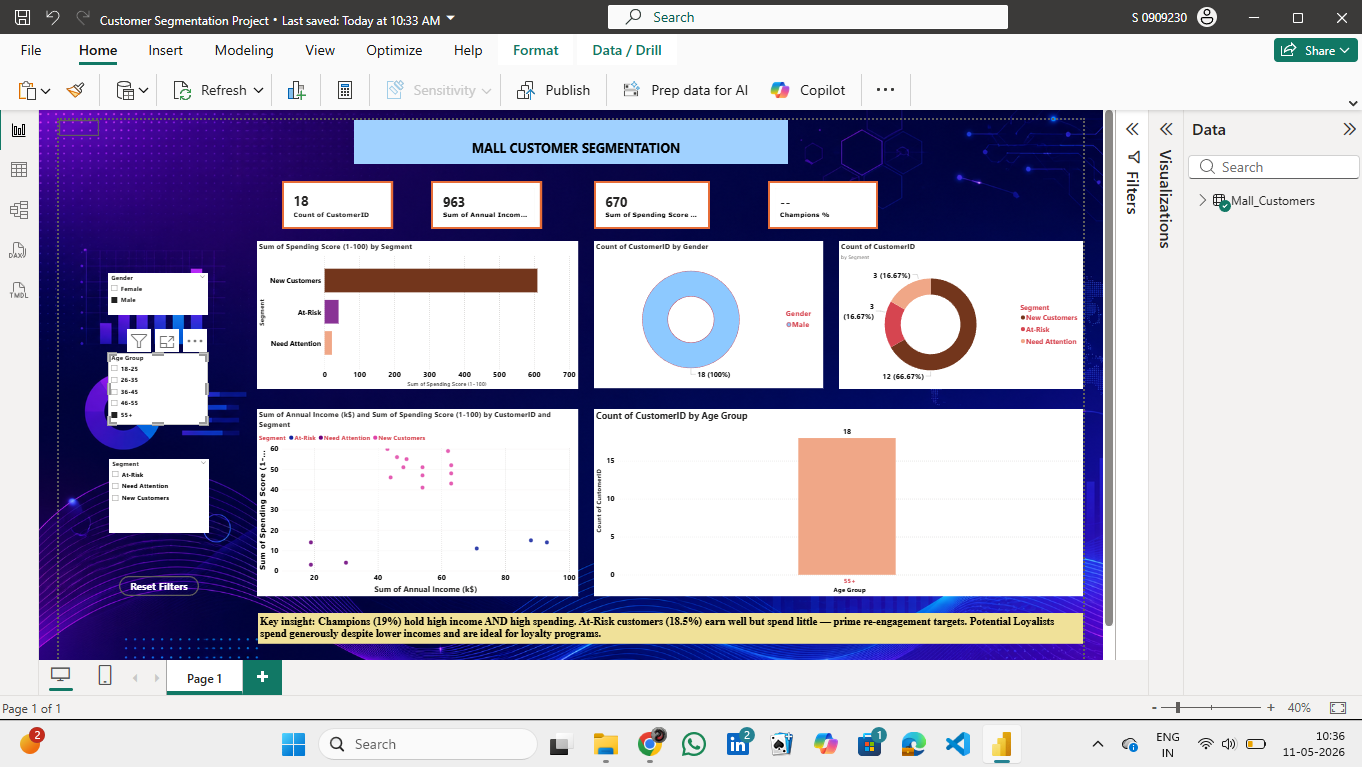

This screenshot's page, from the dashboard's own definition file:
{"tool":"powerbi","page":{"name":"Page 1","canvas":[2560,1440],"ordinal":0},"visuals":[{"type":"cardVisual","fields":{"Data":["CountNonNull(Mall_Customers.CustomerID)"]},"box":[557.5,152.5,277.5,120],"z":0},{"type":"cardVisual","fields":{"Data":["Sum(Mall_Customers.Annual Income (k$))"]},"box":[930,152.5,277.5,120],"z":1000},{"type":"cardVisual","fields":{"Data":["Sum(Mall_Customers.Spending Score (1-100))"]},"box":[1337.5,152.5,290,120],"z":2000},{"type":"textbox","box":[737.5,0,1085,110],"z":3000},{"type":"scatterChart","fields":{"Y":["Sum(Mall_Customers.Spending Score (1-100))"],"X":["Sum(Mall_Customers.Annual Income (k$))"],"Category":["Mall_Customers.CustomerID"],"Series":["Mall_Customers.Segment"]},"box":[495,722.5,802.5,467.5],"z":4000},{"type":"donutChart","fields":{"Category":["Mall_Customers.Segment"],"Y":["CountNonNull(Mall_Customers.CustomerID)"]},"box":[1950,302.5,610,370],"z":5000},{"type":"slicer","fields":{"Values":["Mall_Customers.Gender"]},"box":[122.5,382.5,250,105],"z":6000},{"type":"slicer","fields":{"Values":["Mall_Customers.Age Group"]},"box":[122.5,582.5,250,180],"z":7000},{"type":"slicer","fields":{"Values":["Mall_Customers.Segment"]},"box":[125,847.5,250,185],"z":8000},{"type":"donutChart","fields":{"Category":["Mall_Customers.Gender"],"Y":["CountNonNull(Mall_Customers.CustomerID)"]},"box":[1337.5,302.5,572.5,367.5],"z":9000},{"type":"clusteredBarChart","fields":{"Category":["Mall_Customers.Segment"],"Y":["Sum(Mall_Customers.Spending Score (1-100))"]},"box":[495,302.5,802.5,370],"z":10000},{"type":"clusteredColumnChart","fields":{"Category":["Mall_Customers.Age Group"],"Y":["CountNonNull(Mall_Customers.CustomerID)"]},"box":[1337.5,722.5,1222.5,467.5],"z":11000},{"type":"cardVisual","fields":{"Data":["Mall_Customers.Champions %"]},"box":[1772.5,152.5,275,120],"z":12000},{"type":"actionButton","box":[0,0,100,40],"z":13000},{"type":"actionButton","box":[150,1140,200,50],"z":14000},{"type":"textbox","box":[496.7,1233.3,2063.3,76.7],"z":14001}]}

Visuals, with their boxes on the page's 2560x1440 design canvas (x1, y1, x2, y2). These are canvas units, not pixel positions in the 1362x767 screenshot, which may show the page scaled, cropped or inside an application window:
cardVisual - CountNonNull(Mall_Customers.CustomerID): 558, 152, 835, 272
cardVisual - Sum(Mall_Customers.Annual Income (k$)): 930, 152, 1208, 272
cardVisual - Sum(Mall_Customers.Spending Score (1-100)): 1338, 152, 1628, 272
textbox: 738, 0, 1822, 110
scatterChart - Sum(Mall_Customers.Spending Score (1-100)) x Sum(Mall_Customers.Annual Income (k$)): 495, 722, 1298, 1190
donutChart - Mall_Customers.Segment x CountNonNull(Mall_Customers.CustomerID): 1950, 302, 2560, 672
slicer - Mall_Customers.Gender: 122, 382, 372, 488
slicer - Mall_Customers.Age Group: 122, 582, 372, 762
slicer - Mall_Customers.Segment: 125, 848, 375, 1032
donutChart - Mall_Customers.Gender x CountNonNull(Mall_Customers.CustomerID): 1338, 302, 1910, 670
clusteredBarChart - Mall_Customers.Segment x Sum(Mall_Customers.Spending Score (1-100)): 495, 302, 1298, 672
clusteredColumnChart - Mall_Customers.Age Group x CountNonNull(Mall_Customers.CustomerID): 1338, 722, 2560, 1190
cardVisual - Mall_Customers.Champions %: 1772, 152, 2048, 272
actionButton: 0, 0, 100, 40
actionButton: 150, 1140, 350, 1190
textbox: 497, 1233, 2560, 1310
